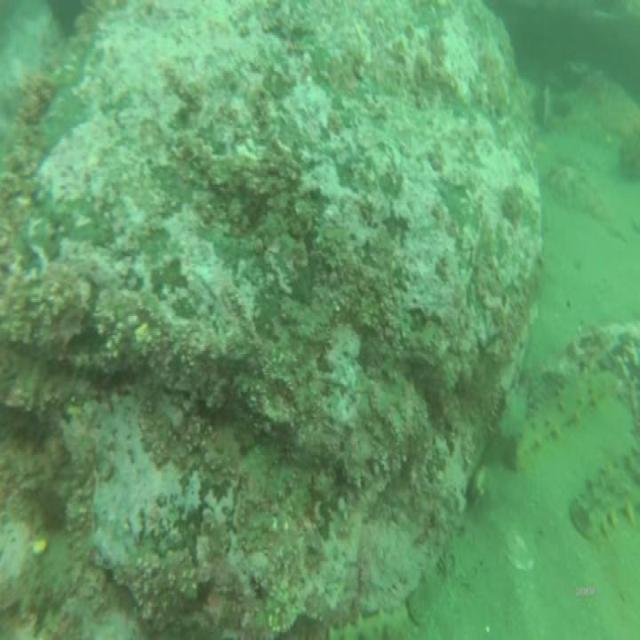holothurian: (513, 365, 618, 465), (571, 445, 640, 540)
